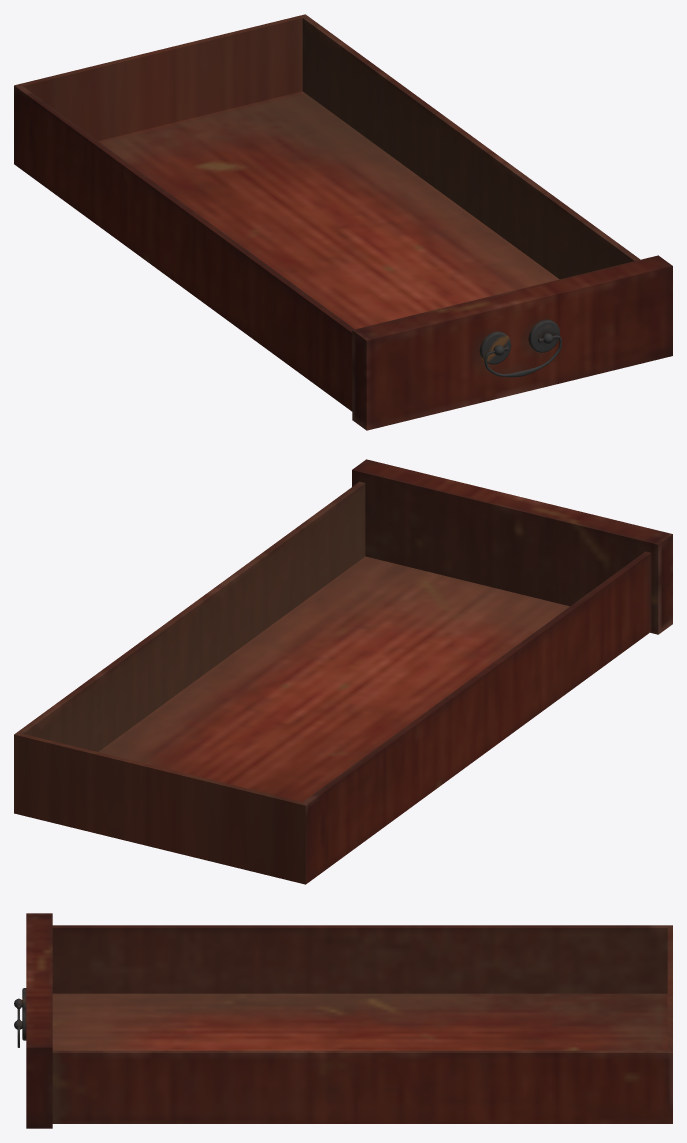
Rendered from SM_ThreetieredCupboard_door01.fbx.
3 renders of one model, top to bottom at view 1: azimuth 30°, elevation 25°; view 2: azimuth 150°, elevation 25°; view 3: azimuth 270°, elevation 25°, orthographic. The views are drawn at different scales.
Visible parts, largest first — view 1: SM_ThreetieredCupboard_door01; view 2: SM_ThreetieredCupboard_door01; view 3: SM_ThreetieredCupboard_door01.
Boxes of the visible parts, x1=… form: SM_ThreetieredCupboard_door01: x1=14, y1=14, x2=672, y2=430; SM_ThreetieredCupboard_door01: x1=14, y1=459, x2=672, y2=884; SM_ThreetieredCupboard_door01: x1=14, y1=913, x2=672, y2=1128.
Bounding box in the file's own units: 22.44 × 6.3 × 46.53.
Materials: 1 (1 with a texture image).
